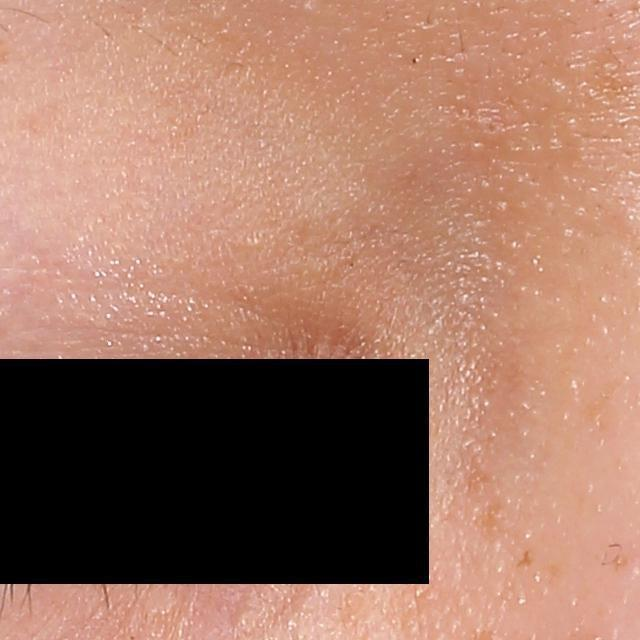melasma: (461, 463, 510, 547)
